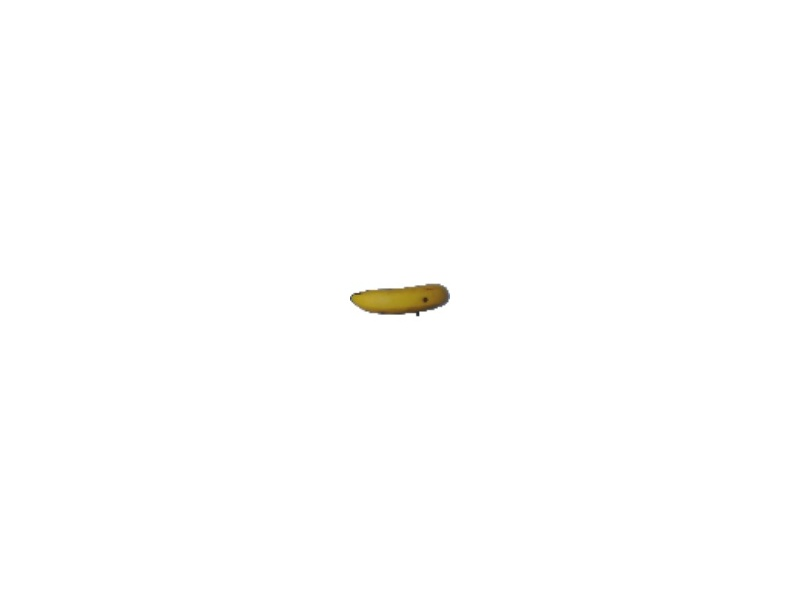banana: (345, 280, 453, 318)
